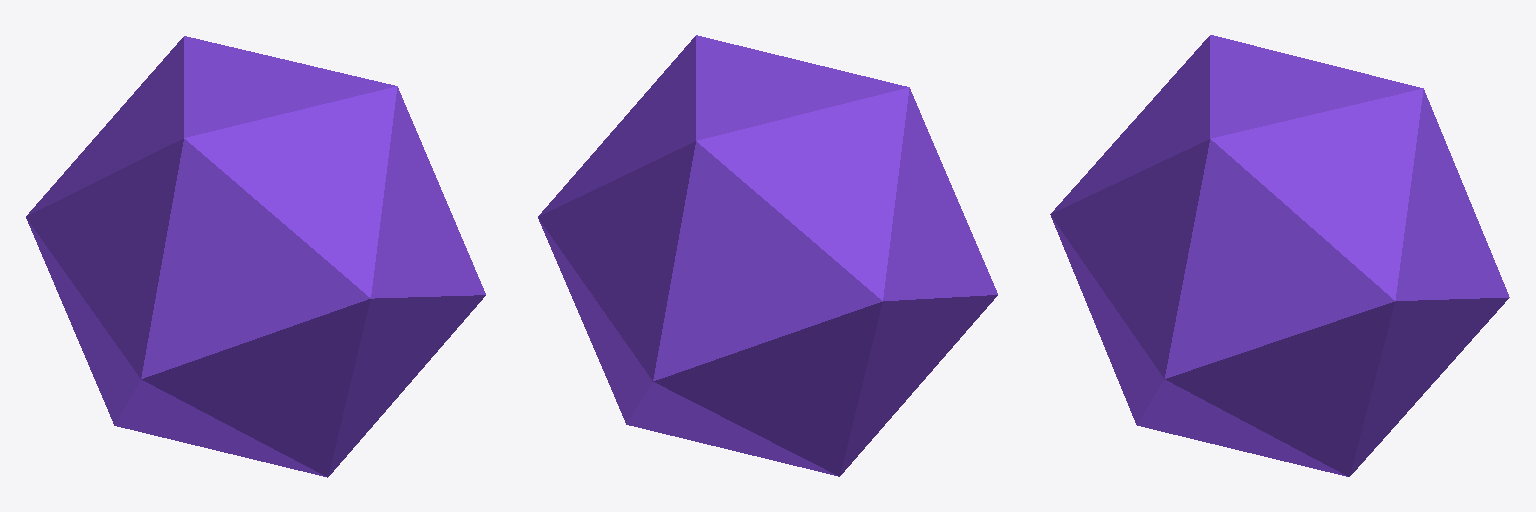
3 views of the same model, side by side, from view 1: azimuth 30°, elevation 25°; view 2: azimuth 150°, elevation 25°; view 3: azimuth 270°, elevation 25° (orthographic).
Parts seen in each view (by area): view 1: Icosaedron; view 2: Icosaedron; view 3: Icosaedron.
Part boxes in pixels (bbox=[...]): Icosaedron: bbox=[26, 36, 485, 477]; Icosaedron: bbox=[538, 35, 997, 476]; Icosaedron: bbox=[1050, 35, 1509, 476].
Bounding box in the file's own units: 15.75 × 14.76 × 18.16.